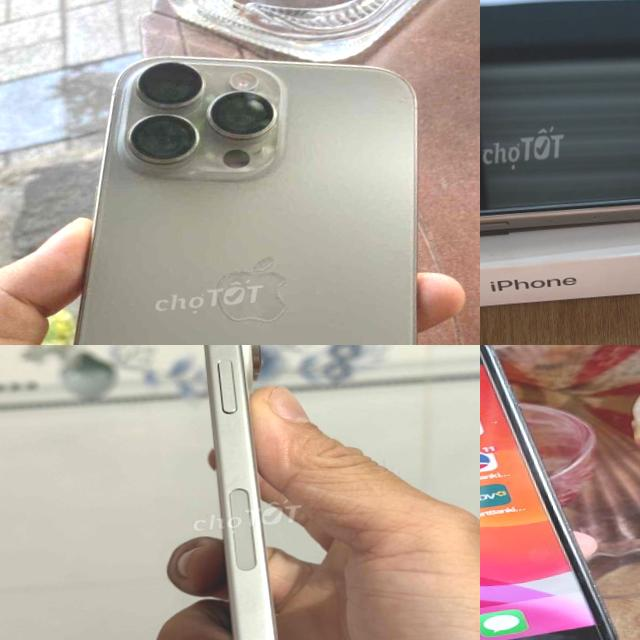scratch: (548, 506, 629, 634), (484, 362, 548, 418)
